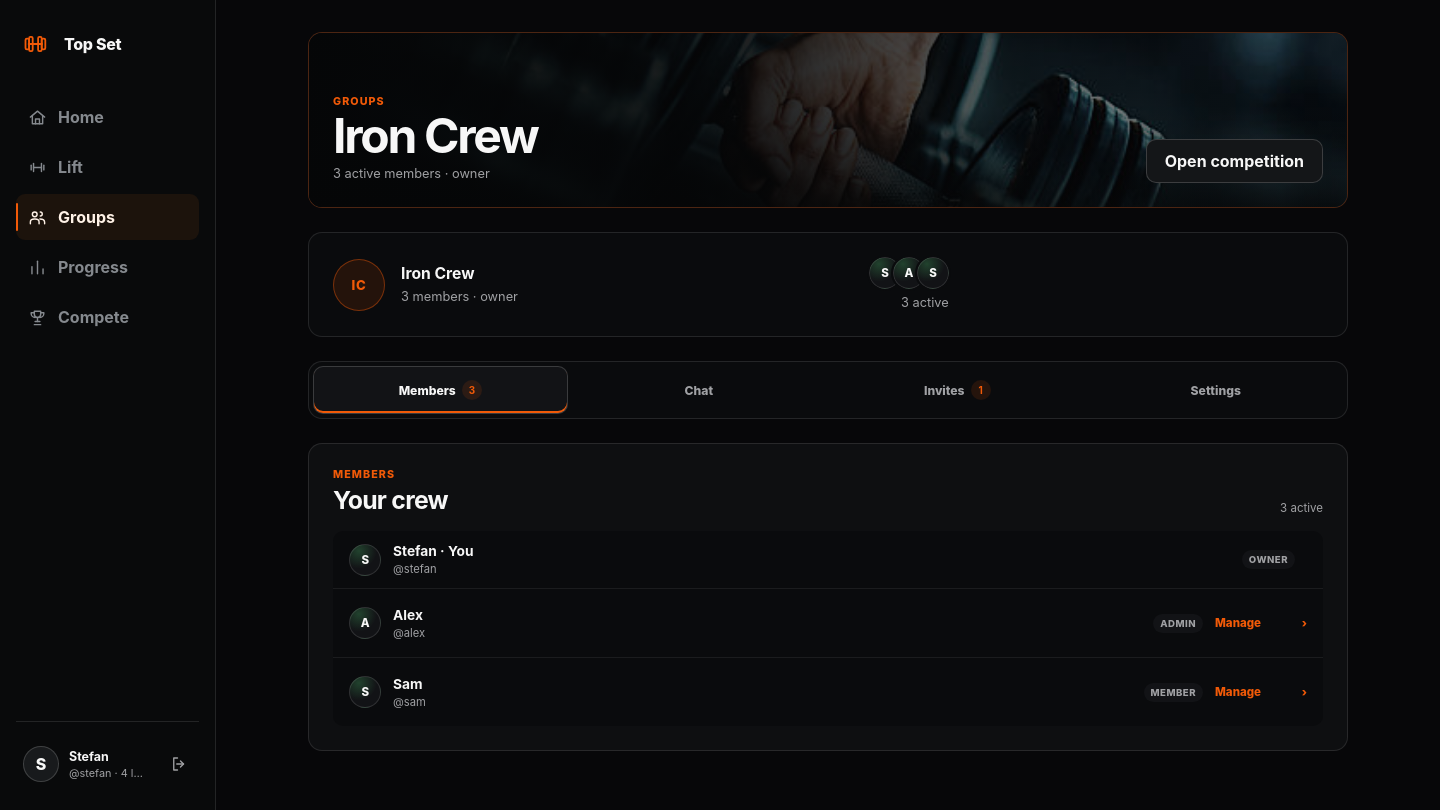
it: GroupAdministrationScreen › keeps owner actions behind one focused Manage affordance
Check: the heading "Your crew" is shown, box [333,485,448,515]
Click the tab "Invites 1".
click(957, 390)  # box [830,366,1084,414]
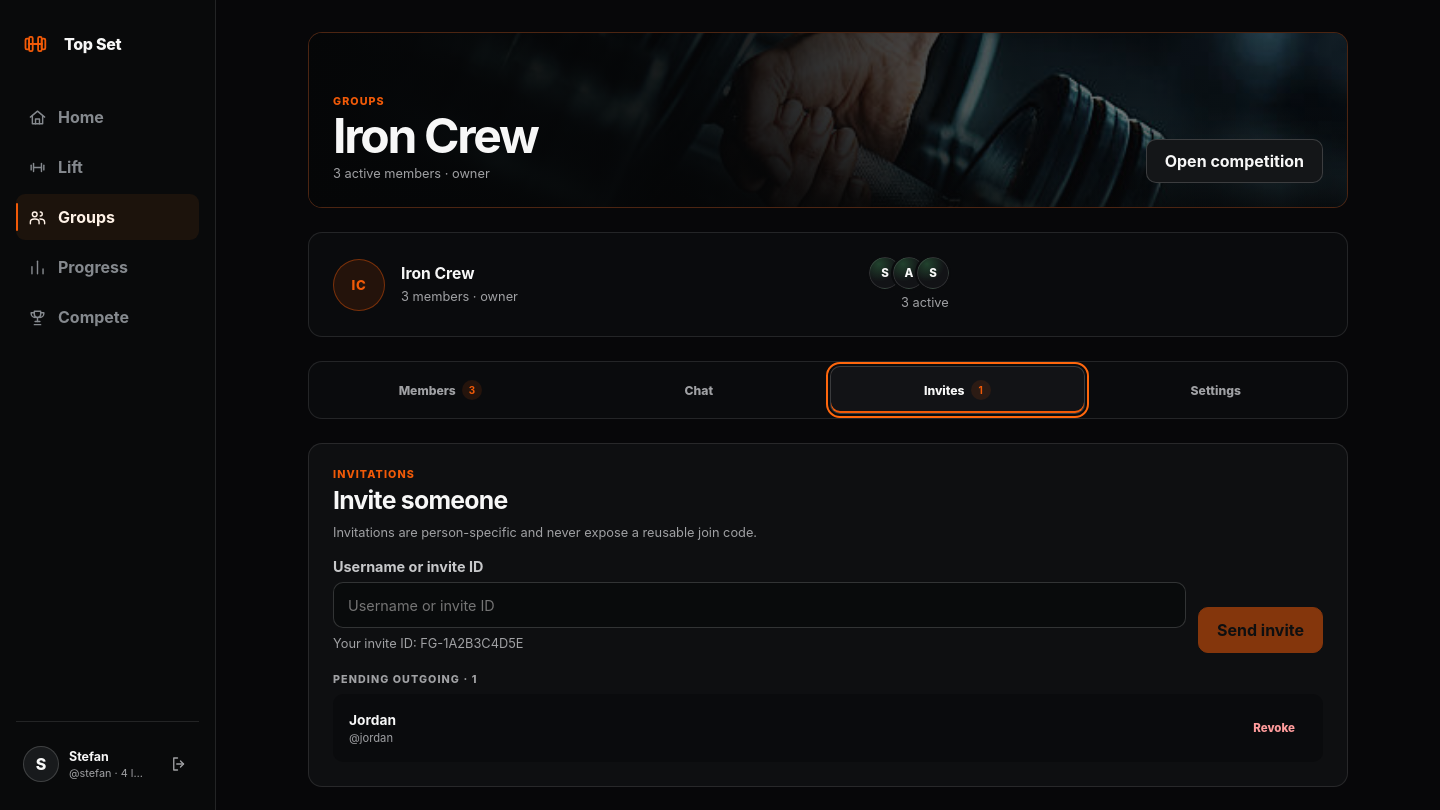
Check: the button "Transfer ownership" is not shown
Check: the heading "Invite someone" is shown, box [333,485,508,515]
Check: the text "Your invite ID: FG-1A2B3C4D5E" is shown, box [333,636,524,651]
Click the tab "Members 3".
click(440, 390)  # box [313,366,568,414]
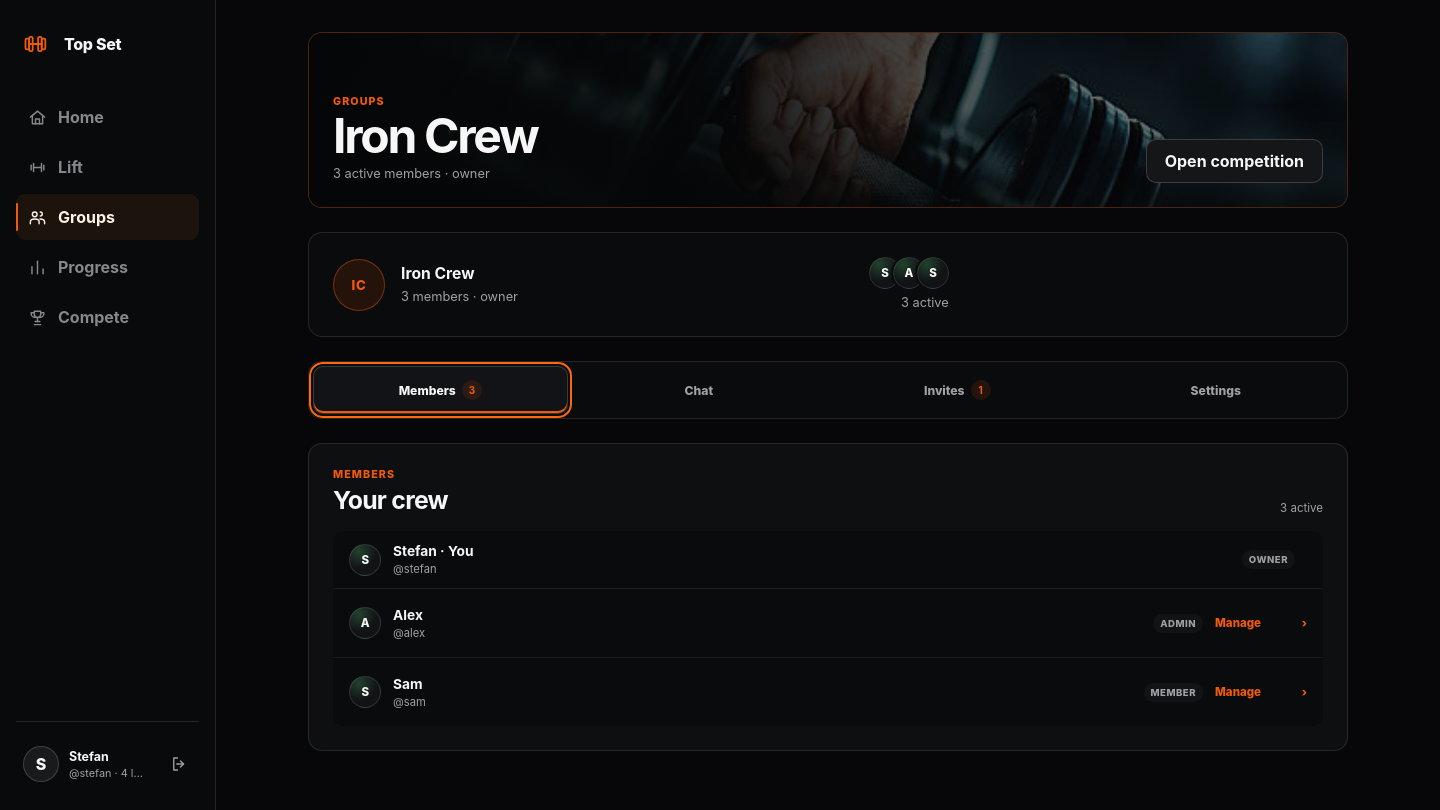
Click the button with aria-label "Manage Alex".
click(1261, 623)  # box [1215,601,1307,645]
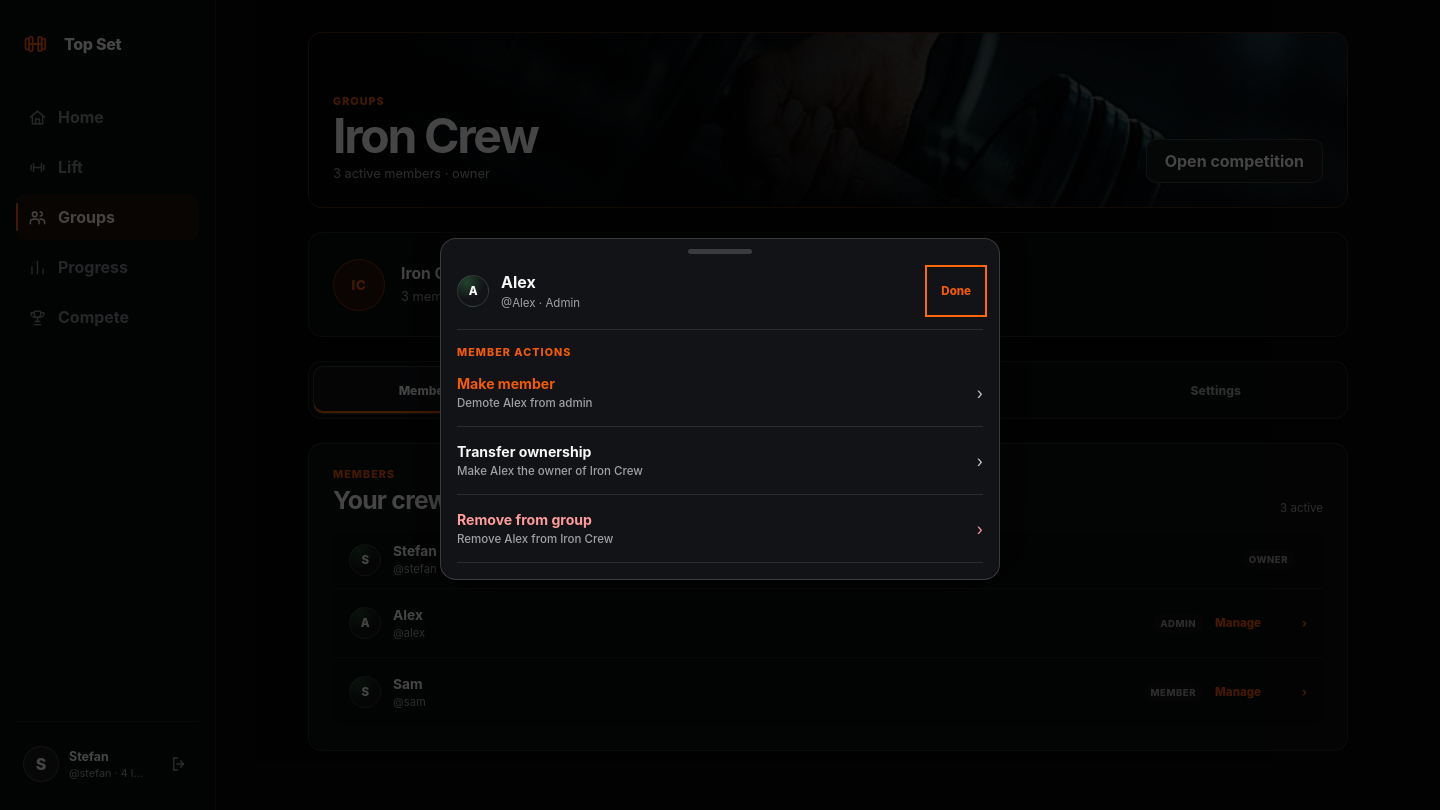
Check: the button "Make member Demote Alex from admin ›" is shown, box [457,359,983,427]
Check: the button "Transfer ownership" is shown, box [457,427,983,495]
Check: the button "Remove from group" is shown, box [457,495,983,563]
